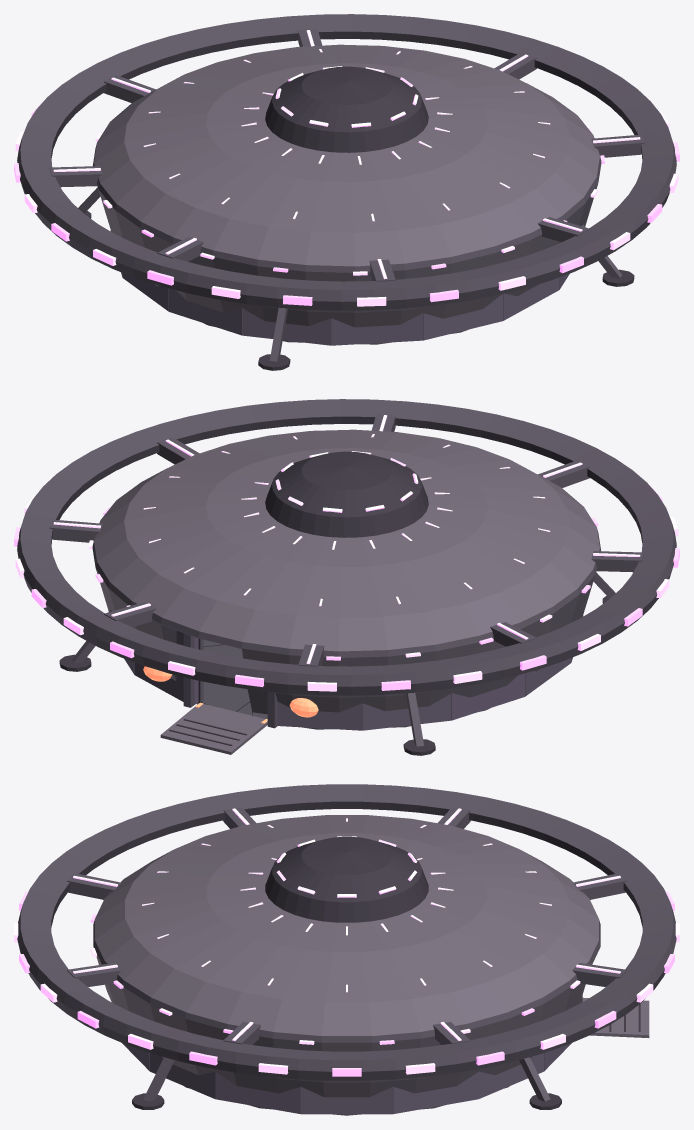
The model's file is ufo_g_raider.glb.
The picture shows the model from 3 angles, top to bottom: view 1: azimuth 30°, elevation 25°; view 2: azimuth 150°, elevation 25°; view 3: azimuth 270°, elevation 25°; orthographic projection.
Parts seen in each view (by area): view 1: Hull; view 2: Hull; view 3: Hull.
Part boxes in pixels (bbox=[...]): Hull: bbox=[14, 14, 679, 370]; Hull: bbox=[14, 399, 679, 755]; Hull: bbox=[14, 784, 679, 1115].
Size of what is drawn, in the model's own units: 20.48 by 5.75 by 20.48.
